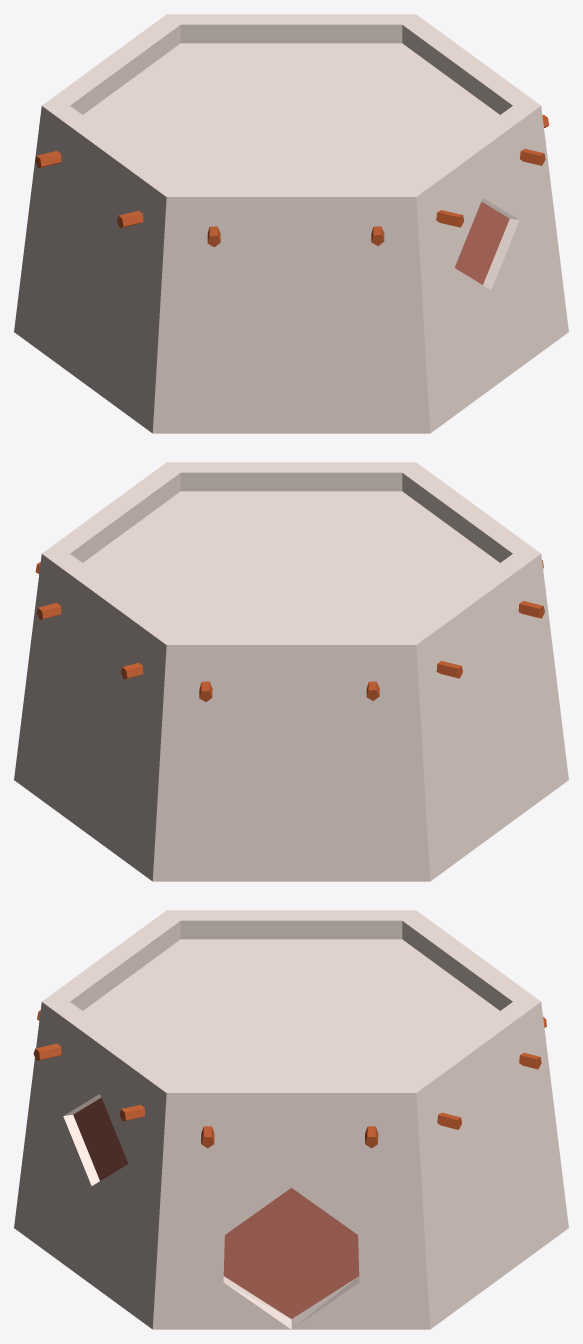
Rendered from Smallhouse.glb.
3 renders of one model, top to bottom at view 1: azimuth 30°, elevation 25°; view 2: azimuth 150°, elevation 25°; view 3: azimuth 270°, elevation 25°, orthographic.
Visible parts, largest first — view 1: SmallHouse; view 2: SmallHouse; view 3: SmallHouse.
Boxes of the visible parts, bbox=[...] form: SmallHouse: bbox=[14, 14, 568, 433]; SmallHouse: bbox=[14, 462, 568, 881]; SmallHouse: bbox=[14, 910, 568, 1329].
Bounding box in the file's own units: 3.52 × 1.8 × 4.
Materials: 1 (1 with a texture image).
